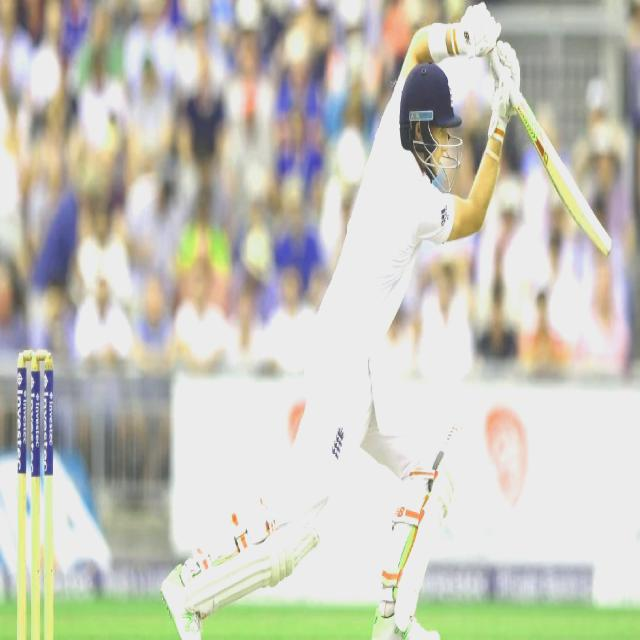toe: (585, 210, 612, 257)
